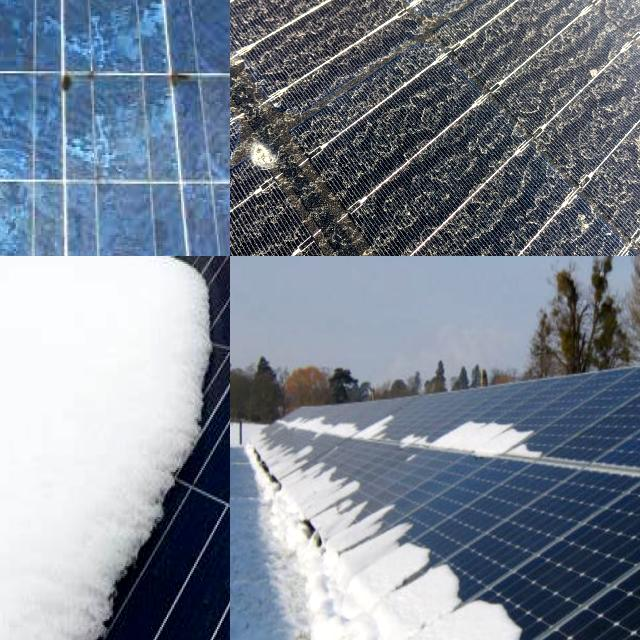bird: (230, 93, 316, 188)
dust: (299, 0, 471, 182), (503, 72, 640, 256), (528, 0, 640, 75), (230, 0, 302, 81), (302, 0, 491, 30)
panel: (282, 479, 388, 596), (127, 422, 202, 574), (450, 412, 552, 494), (377, 580, 515, 640), (53, 556, 132, 640), (195, 263, 230, 441), (322, 460, 383, 548), (93, 256, 188, 303), (460, 590, 528, 640), (249, 428, 317, 474), (425, 548, 470, 612), (384, 515, 430, 572), (336, 408, 394, 452), (288, 406, 345, 449), (394, 423, 442, 473), (0, 256, 74, 286), (0, 256, 44, 280), (0, 256, 24, 283)
shadow: (156, 56, 230, 134), (32, 43, 110, 107), (144, 0, 219, 27)
